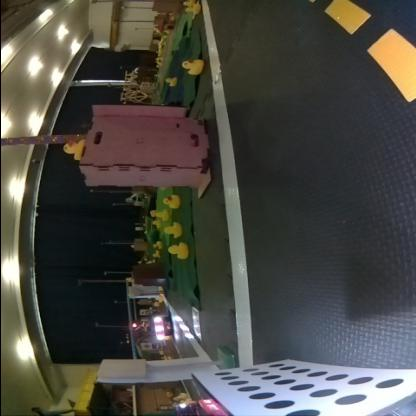Duckie: (62, 139, 82, 159), (180, 58, 202, 74), (166, 242, 186, 258), (163, 222, 179, 236), (162, 194, 178, 208), (184, 4, 199, 13), (163, 76, 176, 86), (154, 209, 168, 218)
Duckiebot: (190, 359, 380, 414), (147, 316, 171, 340)
QR code: (190, 306, 200, 338)
